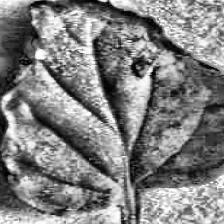disease: (0, 0, 224, 216)
